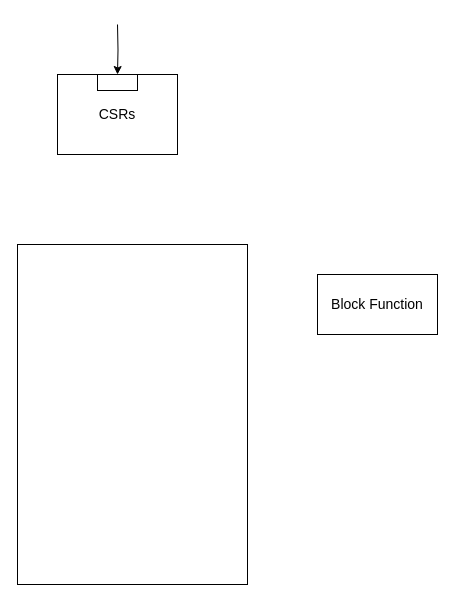
This 455x602 diagram has some shape labels left out. The box of each missing label's shape, as (x1, y1, x2, y2) in pixels:
APB: (96, 74, 138, 90)
Stream Engine: (16, 244, 248, 584)
